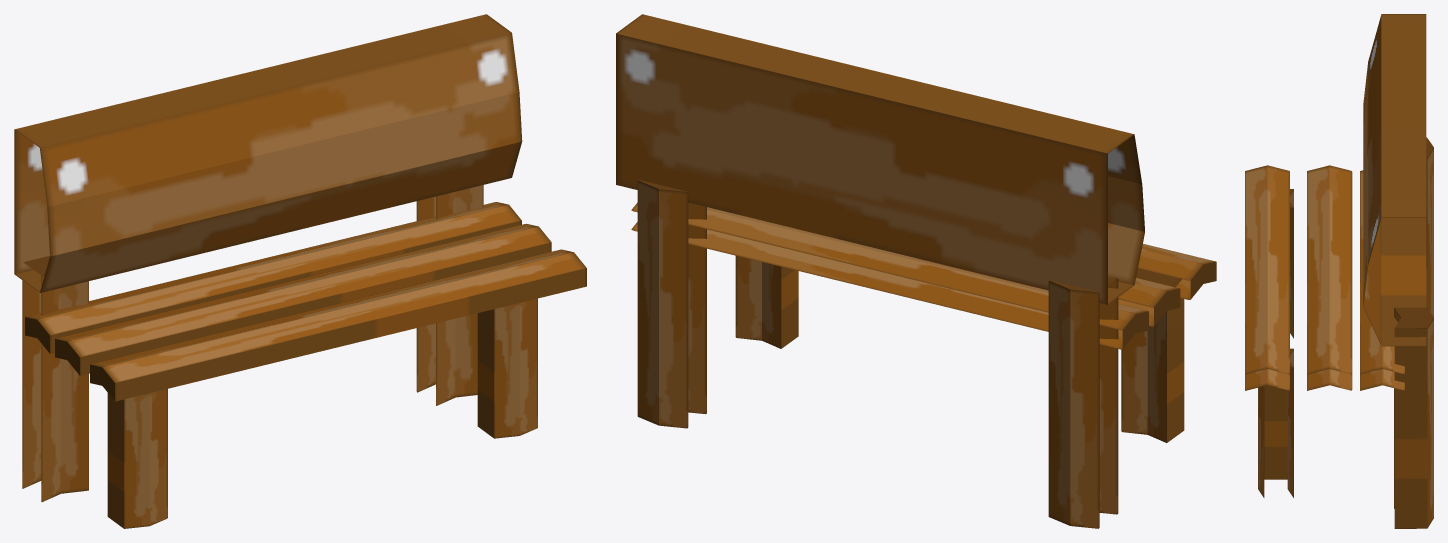
File: Bench_Model_Ver_2.fbx
3 views of the same model, side by side, from view 1: azimuth 30°, elevation 25°; view 2: azimuth 150°, elevation 25°; view 3: azimuth 270°, elevation 25° (orthographic). The views are drawn at different scales.
Parts seen in each view (by area): view 1: Plane, Plane.003, Plane.001, Plane.002, Plane.005, Plane.007, Plane.004, Plane.006; view 2: Plane, Plane.005, Plane.002, Plane.006, Plane.007, Plane.004, Plane.003, Plane.001; view 3: Plane, Plane.001, Plane.003, Plane.006, Plane.004, Plane.002, Plane.005, Plane.007.
Boxes of the visible parts, x1=… form: Plane: x1=14, y1=14, x2=522, y2=292; Plane.003: x1=90, y1=249, x2=586, y2=401; Plane.001: x1=55, y1=223, x2=551, y2=375; Plane.002: x1=25, y1=202, x2=521, y2=353; Plane.005: x1=22, y1=256, x2=88, y2=501; Plane.007: x1=107, y1=389, x2=167, y2=528; Plane.004: x1=477, y1=298, x2=537, y2=438; Plane.006: x1=416, y1=185, x2=483, y2=405; Plane: x1=616, y1=14, x2=1144, y2=304; Plane.005: x1=1048, y1=277, x2=1118, y2=528; Plane.002: x1=631, y1=202, x2=1148, y2=349; Plane.006: x1=637, y1=179, x2=706, y2=428; Plane.007: x1=1121, y1=268, x2=1184, y2=442; Plane.004: x1=735, y1=256, x2=798, y2=348; Plane.003: x1=1138, y1=244, x2=1216, y2=299; Plane.001: x1=1118, y1=278, x2=1180, y2=326; Plane: x1=1363, y1=14, x2=1426, y2=346; Plane.001: x1=1307, y1=165, x2=1352, y2=390; Plane.003: x1=1245, y1=165, x2=1289, y2=390; Plane.006: x1=1394, y1=307, x2=1433, y2=528; Plane.004: x1=1258, y1=348, x2=1293, y2=497; Plane.002: x1=1360, y1=170, x2=1404, y2=390; Plane.005: x1=1426, y1=137, x2=1433, y2=316; Plane.007: x1=1290, y1=189, x2=1293, y2=338.
Bounding box in the file's own units: 145 × 105 × 56.32.
Materials: 8 (8 with a texture image).
